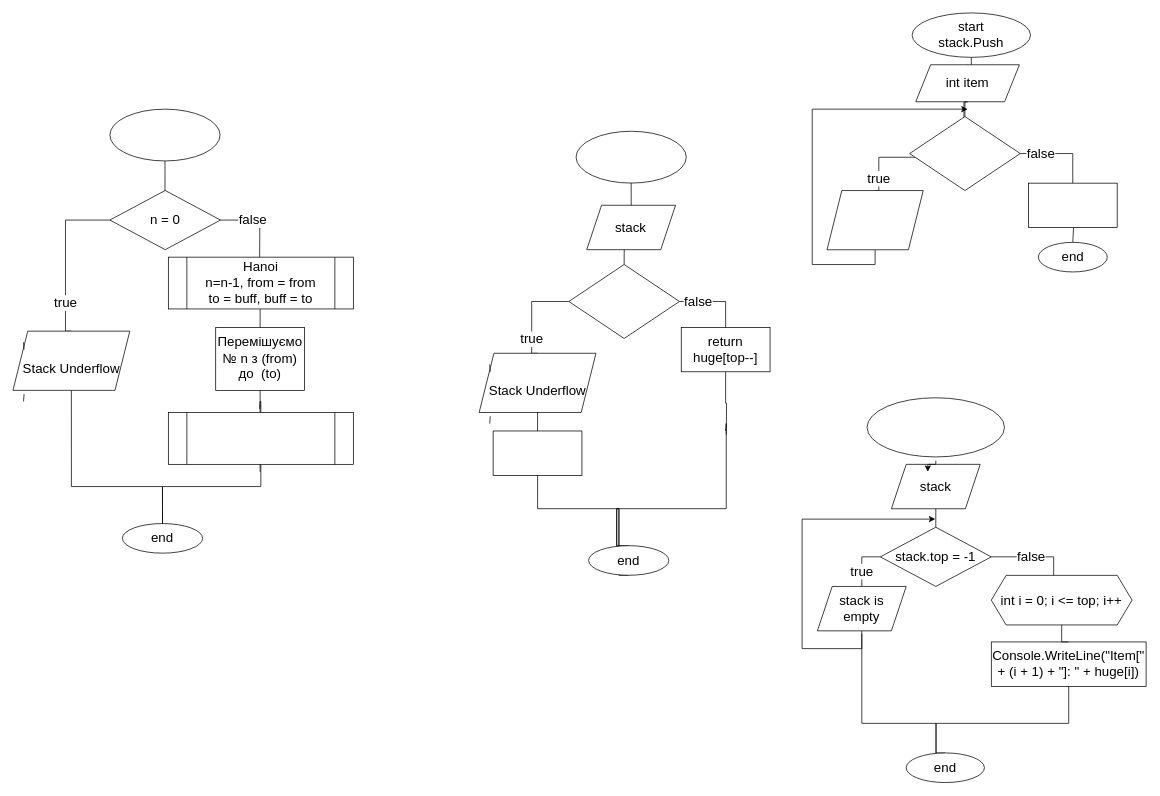
Some shapes in this 1160 by 796 pixel diagram are drawn without their labels. The shapes that lost their labels are listed below. From the top down, each one's centre as x and y in pixels, then its label:
At (x=164, y=134): "start Hanoi".
At (x=964, y=153): "top ==max -1".
At (x=630, y=157): "start stack.Pop".
At (x=874, y=220): "stack is Overflow".
At (x=1072, y=205): "huge[++top] = item".
At (x=623, y=301): "top = -1".
At (x=260, y=438): "Hanoi n=n-1, from = buff to = to, buff = from".
At (x=935, y=427): "start printStack.".
At (x=537, y=452): "return -1".
